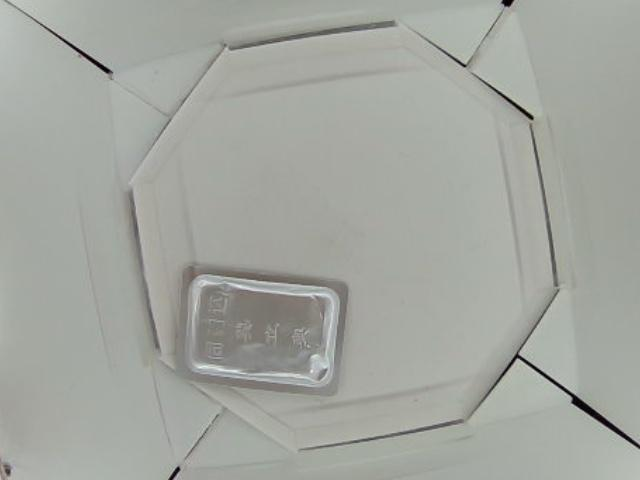Medicine: (176, 261, 345, 393)
